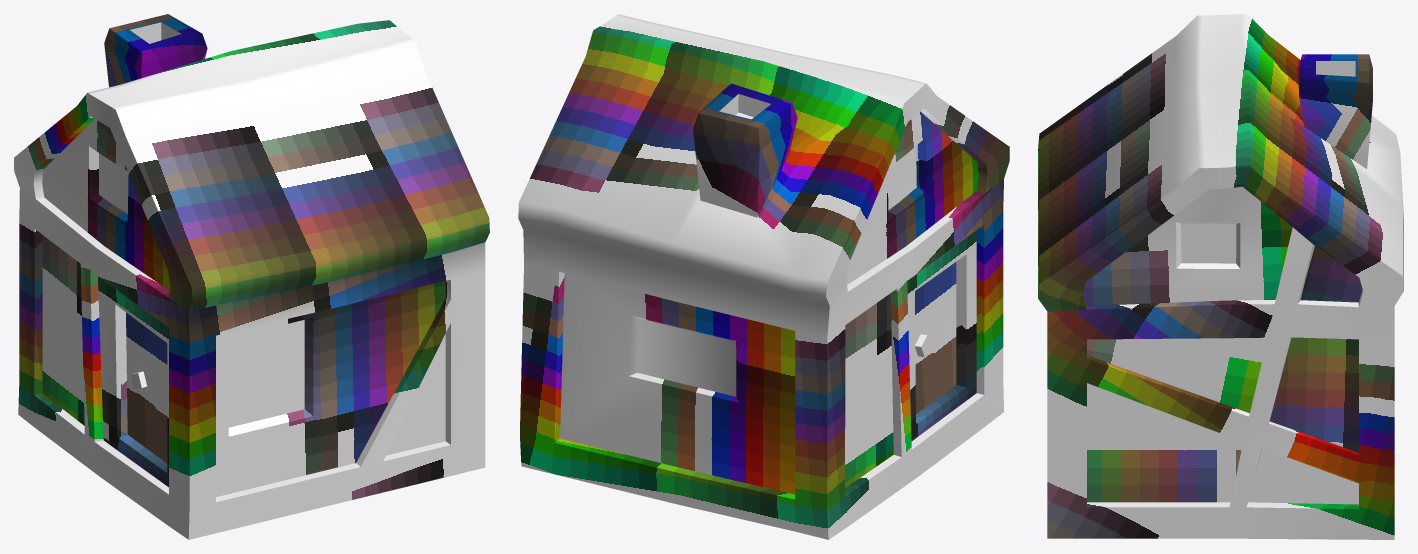
File: ColonistSmallHouse1.fbx
3 views of the same model, side by side, from view 1: azimuth 30°, elevation 25°; view 2: azimuth 150°, elevation 25°; view 3: azimuth 270°, elevation 25° (orthographic). The views are drawn at different scales.
Visible parts, largest first — view 1: ColonistSmallHouse1; view 2: ColonistSmallHouse1; view 3: ColonistSmallHouse1.
Boxes of the visible parts, x1,y1,x2,y2 form: ColonistSmallHouse1: (14,14,489,539); ColonistSmallHouse1: (518,14,1009,539); ColonistSmallHouse1: (1038,14,1403,539).
Bounding box in the file's own units: 122 × 146 × 126.
